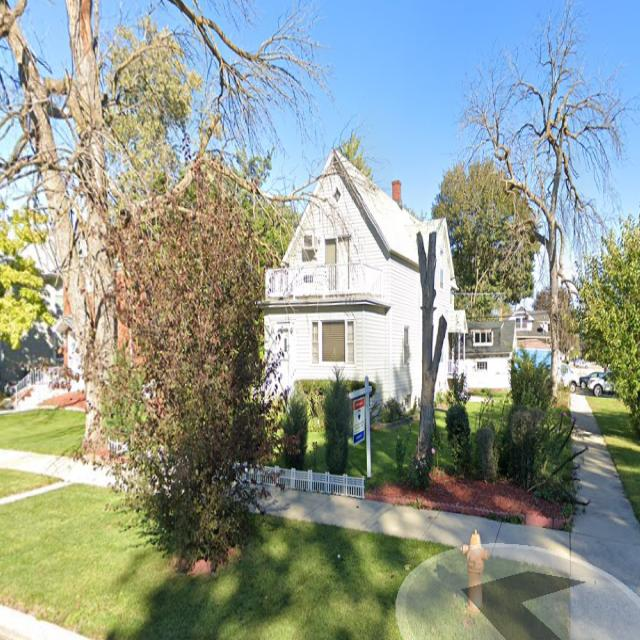House: (256, 148, 469, 418), (459, 315, 518, 394)
